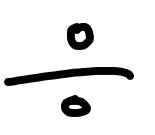div: (5, 23, 134, 117)
